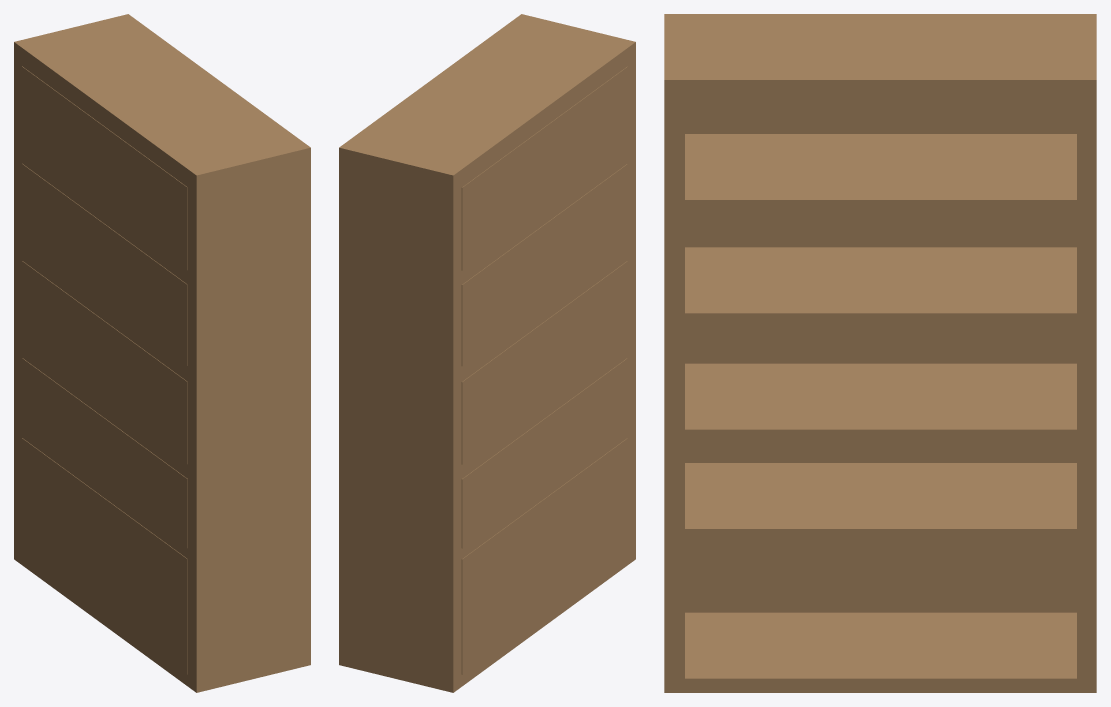
Rendered from Bookshelf3.fbx.
3 renders of one model, left to right at view 1: azimuth 30°, elevation 25°; view 2: azimuth 150°, elevation 25°; view 3: azimuth 270°, elevation 25°, orthographic. The views are drawn at different scales.
Parts seen in each view (by area): view 1: pCube1; view 2: pCube1; view 3: pCube1.
Boxes of the visible parts, x1=… form: pCube1: x1=14, y1=14, x2=310, y2=692; pCube1: x1=339, y1=14, x2=635, y2=692; pCube1: x1=664, y1=14, x2=1096, y2=692.
Size of the model in its own units: 69 by 297 by 190.
